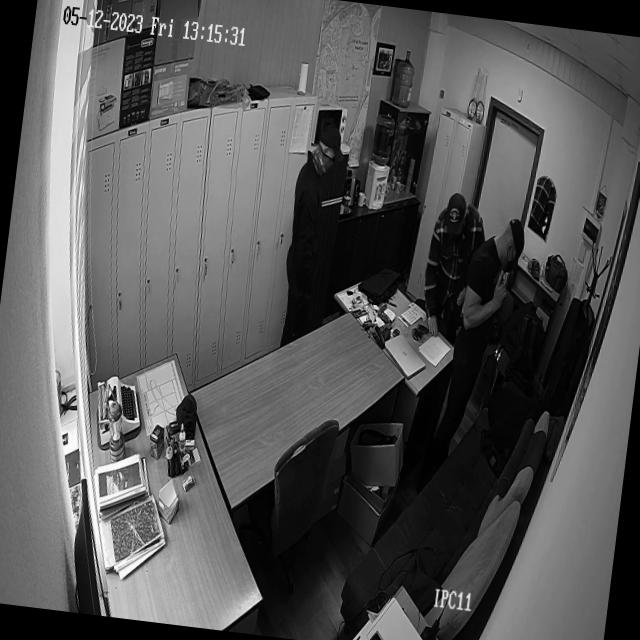gun: (444, 252, 472, 341), (490, 255, 510, 318)
person: (279, 124, 343, 342)
person with a gun: (427, 213, 526, 500), (419, 192, 488, 346)
